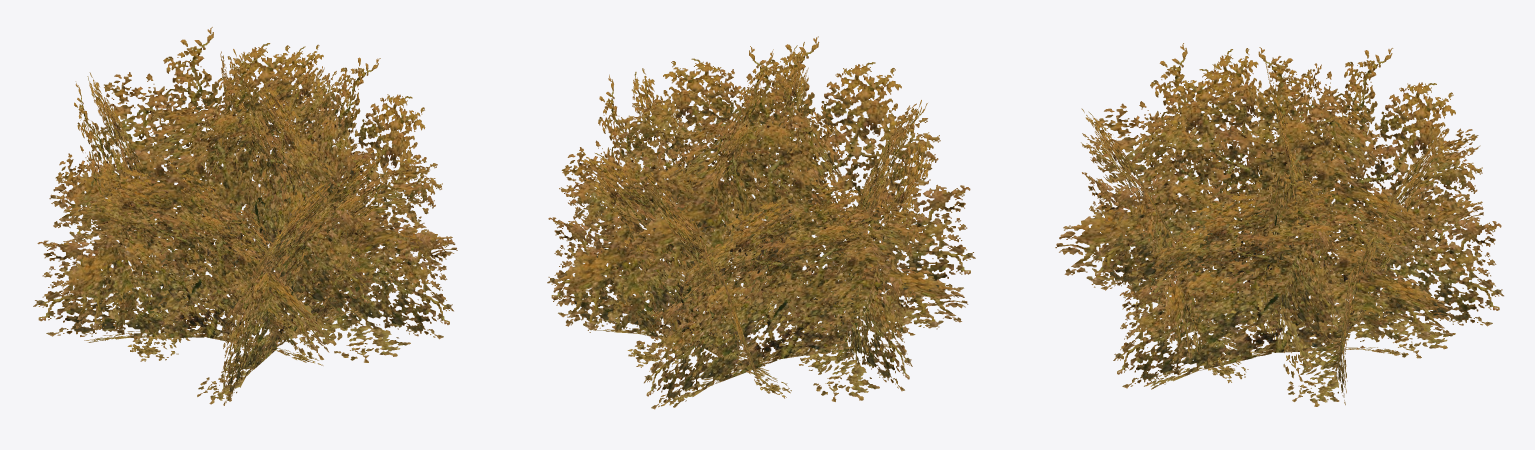
The model's file is tre_dry02_1.glb.
3 views of the same model, side by side, from view 1: azimuth 30°, elevation 25°; view 2: azimuth 150°, elevation 25°; view 3: azimuth 270°, elevation 25° (orthographic). The views are drawn at different scales.
Parts seen in each view (by area): view 1: tre_dry02_1; view 2: tre_dry02_1; view 3: tre_dry02_1.
Part boxes in pixels (x1,y1,x2,y2): tre_dry02_1: (33, 27, 457, 405); tre_dry02_1: (547, 36, 975, 409); tre_dry02_1: (1055, 43, 1503, 406).
Size of the model in its own units: 12.08 by 8.54 by 12.54.
1 material, 1 textured.
